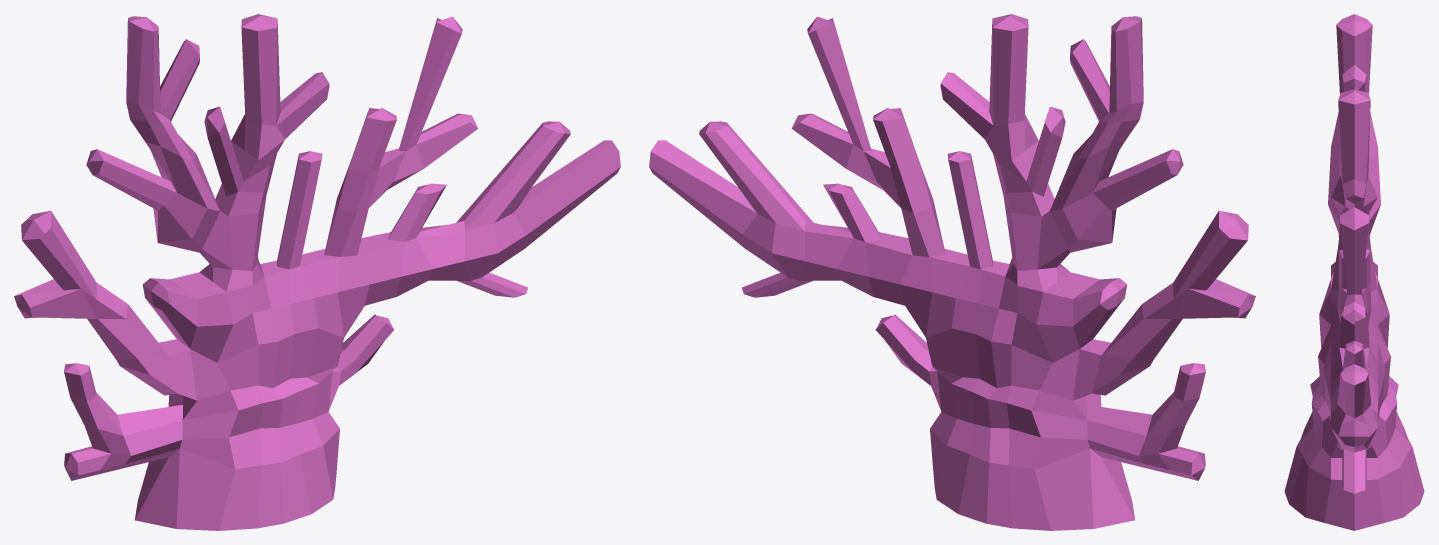
The model's file is coral.obj.
3 renders of one model, left to right at view 1: azimuth 30°, elevation 25°; view 2: azimuth 150°, elevation 25°; view 3: azimuth 270°, elevation 25°, orthographic. The views are drawn at different scales.
Visible parts, largest first — view 1: Cube; view 2: Cube; view 3: Cube.
Part boxes in pixels (x1=…): Cube: x1=14, y1=14, x2=620, y2=530; Cube: x1=649, y1=14, x2=1255, y2=530; Cube: x1=1284, y1=14, x2=1424, y2=530.
Bounding box in the file's own units: 5.74 × 4.57 × 1.35.
Materials: 1 (1 with a texture image).
